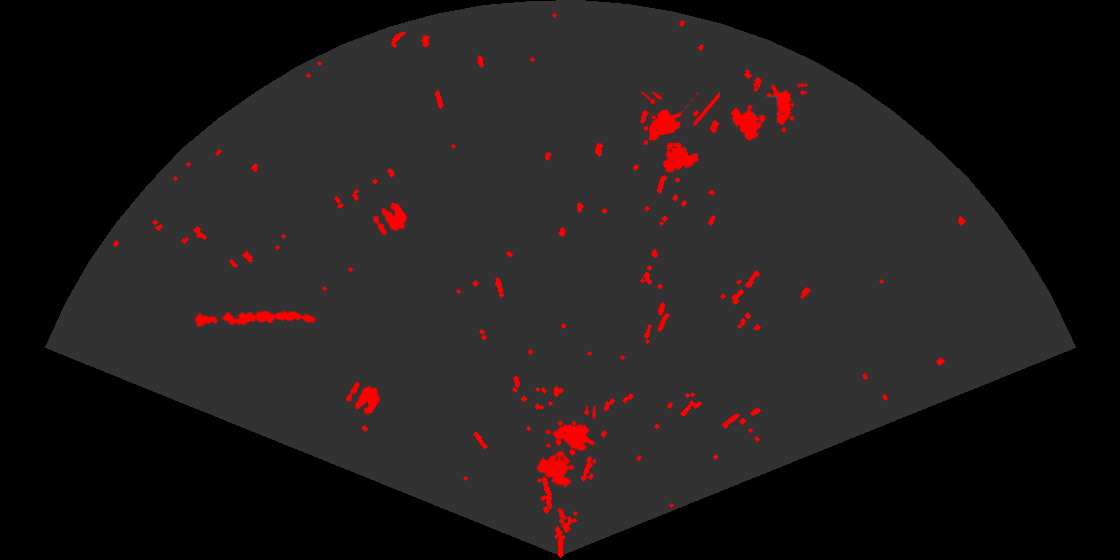ball: (371, 201, 409, 237), (344, 380, 382, 416)
cage: (639, 92, 720, 174), (535, 406, 596, 489), (729, 83, 807, 142)
chain: (192, 309, 318, 329)
